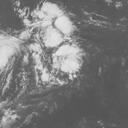cyclone: (22, 20, 83, 83)
